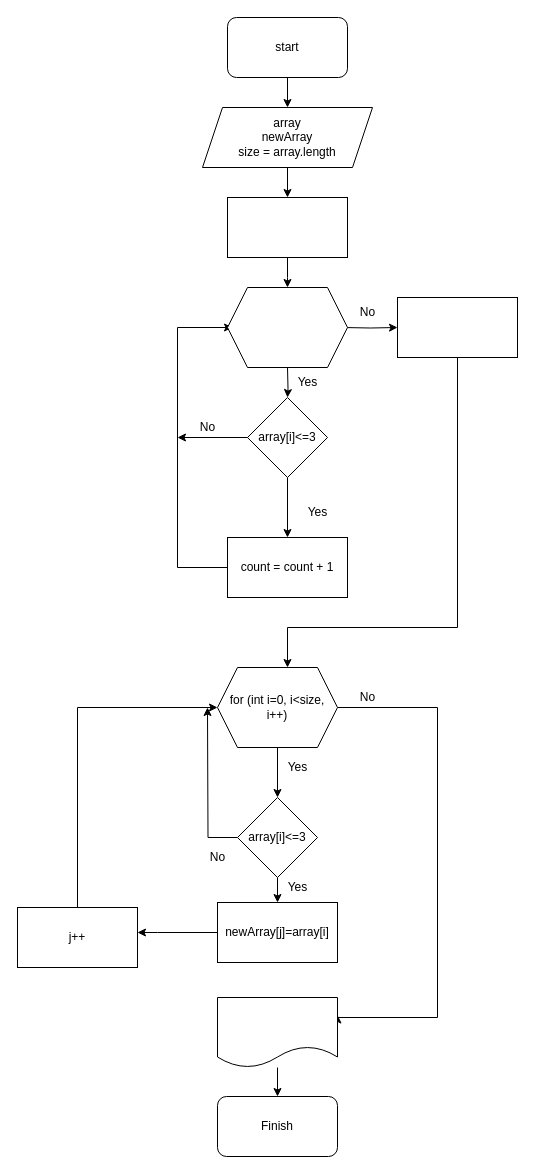
Some shapes in this 535 by 1174 pixel diagram are drawn without their labels. Here are the shapes that lost their labels. From the top down, the centre of each, then its label:
At point 287,227: "maxChar=3 count = 0".
At point 287,327: "for (int i =0, i<size, i++)".
At point 457,327: "Print array".
At point 277,1032: "Print newArray".
